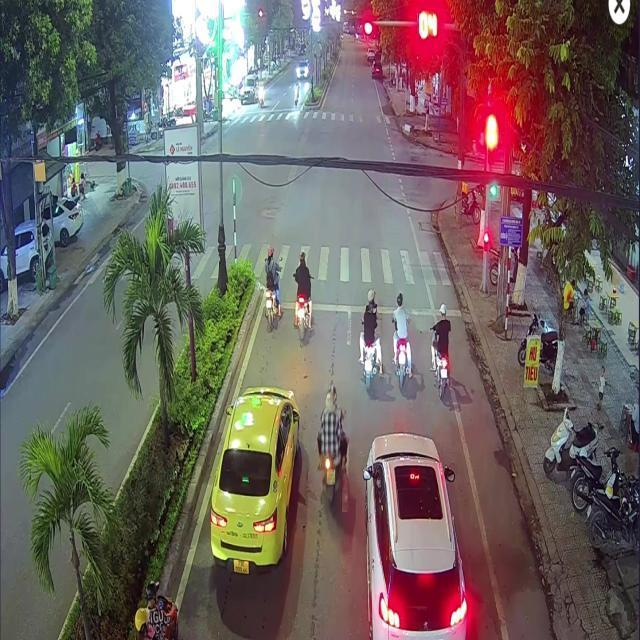car: (362, 430, 469, 639), (208, 387, 298, 576)
motobike: (317, 391, 342, 498), (145, 581, 178, 638), (430, 338, 447, 398), (360, 347, 380, 393), (294, 294, 311, 343), (394, 344, 407, 395), (264, 288, 281, 326)
red_light: (346, 15, 373, 36), (486, 135, 495, 168), (483, 236, 487, 254)
stop_line: (263, 299, 460, 315)
